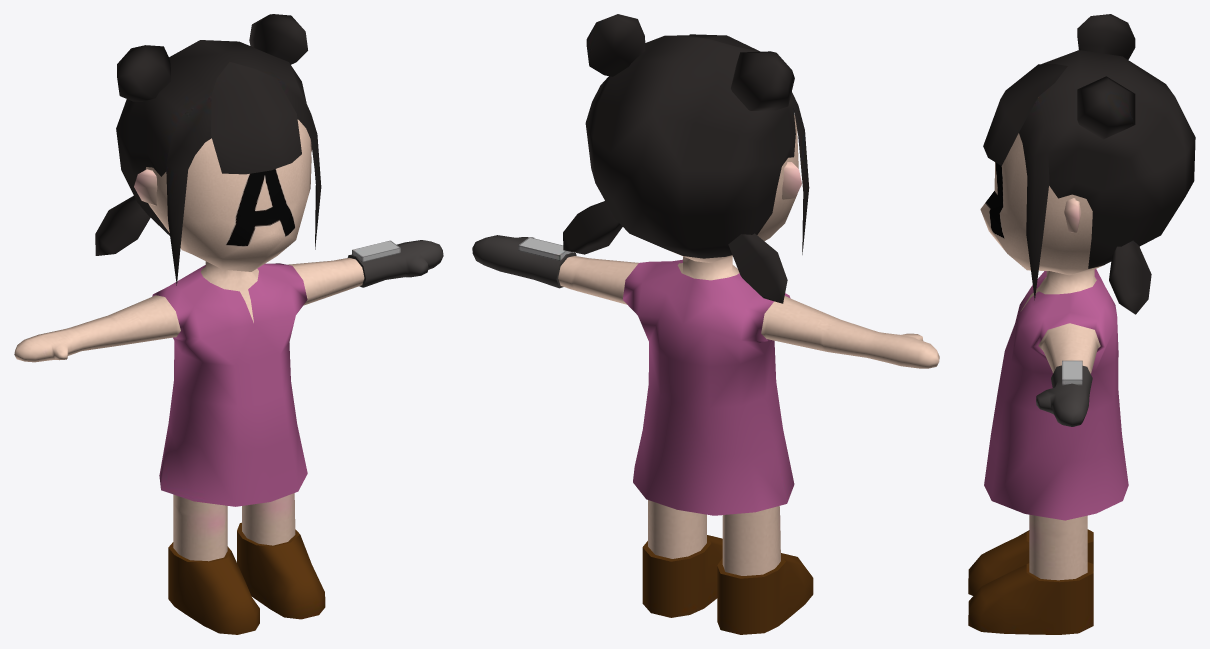
Rendered from child 01.fbx.
The picture shows the model from 3 angles, left to right: view 1: azimuth 30°, elevation 25°; view 2: azimuth 150°, elevation 25°; view 3: azimuth 270°, elevation 25°; orthographic projection. The views are drawn at different scales.
Visible parts, largest first — view 1: clothe, body, hair01, face, shoe, hair02, hair04, glove, hair03, ear, glove_access; view 2: hair01, clothe, body, shoe, hair04, hair03, glove, face, glove_access; view 3: hair01, clothe, shoe, face, body, hair04, hair02, hair03, glove, glove_access, ear.
Part boxes in pixels (x1,y1,x2,y2): clothe: (152, 263, 307, 506); body: (14, 258, 364, 561); hair01: (116, 40, 321, 285); face: (145, 119, 311, 271); shoe: (168, 522, 325, 634); hair02: (211, 62, 301, 174); hair04: (117, 14, 307, 101); glove: (347, 240, 443, 287); hair03: (95, 195, 150, 255); ear: (134, 139, 311, 205); glove_access: (352, 240, 400, 262); hair01: (585, 35, 809, 258); clothe: (622, 259, 794, 515); body: (558, 256, 939, 575); shoe: (642, 535, 813, 634); hair04: (586, 14, 794, 110); hair03: (563, 201, 787, 303); glove: (472, 235, 576, 288); face: (673, 115, 798, 262); glove_access: (518, 237, 571, 260); hair01: (1019, 50, 1195, 300); clothe: (984, 269, 1128, 520); shoe: (968, 529, 1093, 634); face: (980, 133, 1103, 275); body: (1020, 269, 1100, 580); hair04: (1077, 14, 1135, 139); hair02: (983, 64, 1067, 165); hair03: (1109, 240, 1151, 314); glove: (1036, 365, 1092, 426); glove_access: (1062, 360, 1082, 385); ear: (1064, 198, 1081, 232).
Bounding box in the file's own units: 170 × 206 × 76.21.
